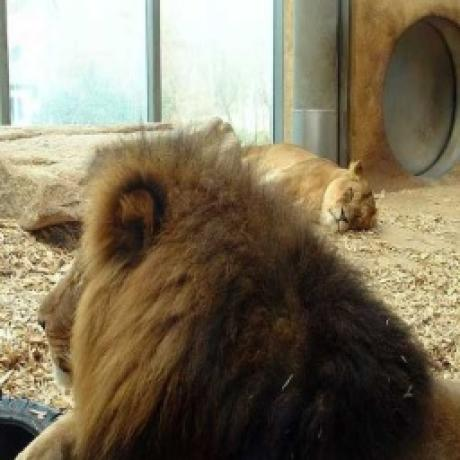Lion: (16, 127, 452, 460), (230, 131, 381, 242)
